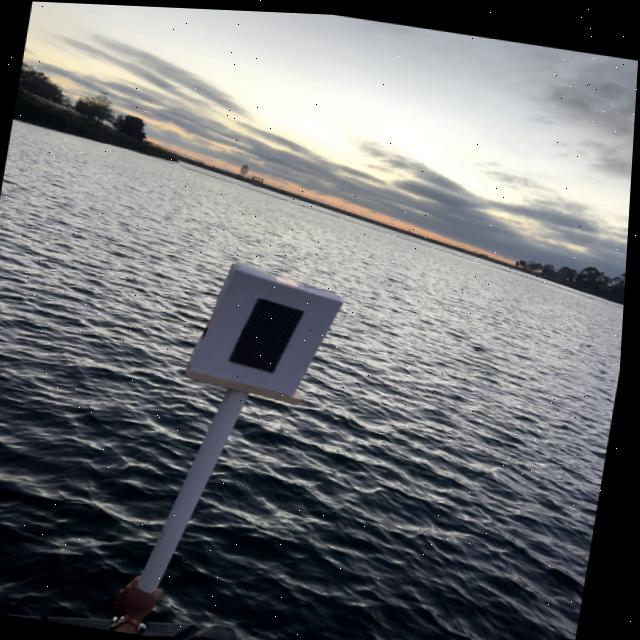led: (220, 280, 319, 396)
